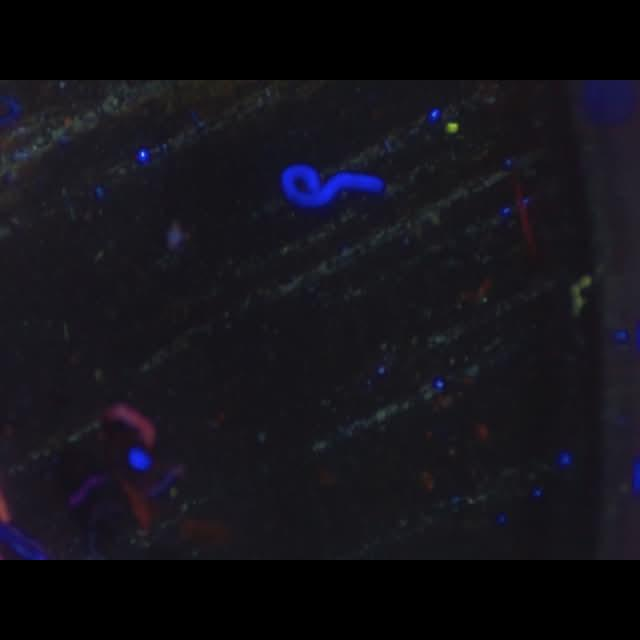microbeads: (442, 120, 460, 134)
